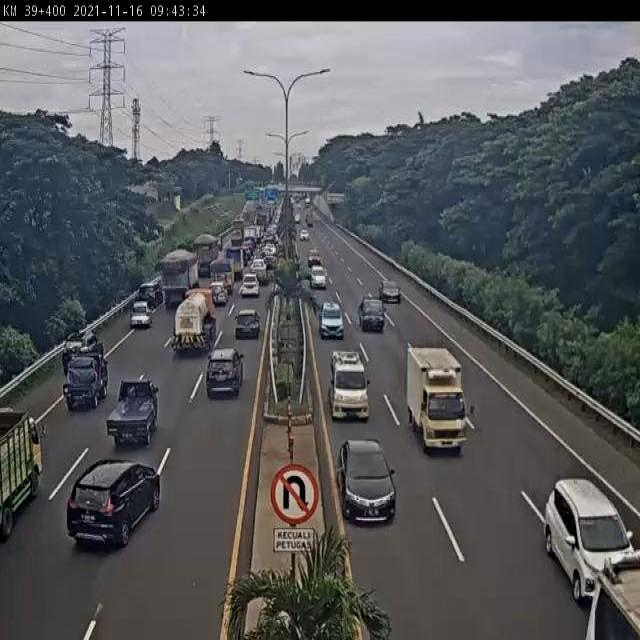Car: (544, 476, 638, 600), (67, 461, 162, 551), (337, 439, 397, 524), (105, 377, 160, 446), (328, 349, 369, 422), (63, 354, 109, 411), (206, 347, 246, 398), (62, 328, 102, 375), (358, 295, 386, 333), (318, 300, 344, 340), (138, 276, 164, 309), (234, 308, 261, 338), (130, 301, 152, 329), (378, 280, 401, 304), (240, 273, 260, 298), (210, 281, 228, 306), (250, 259, 267, 285), (310, 266, 327, 290), (262, 250, 277, 270), (308, 250, 322, 268)
Truck: (407, 347, 466, 452), (172, 288, 217, 356), (156, 252, 199, 308), (193, 232, 220, 275)
